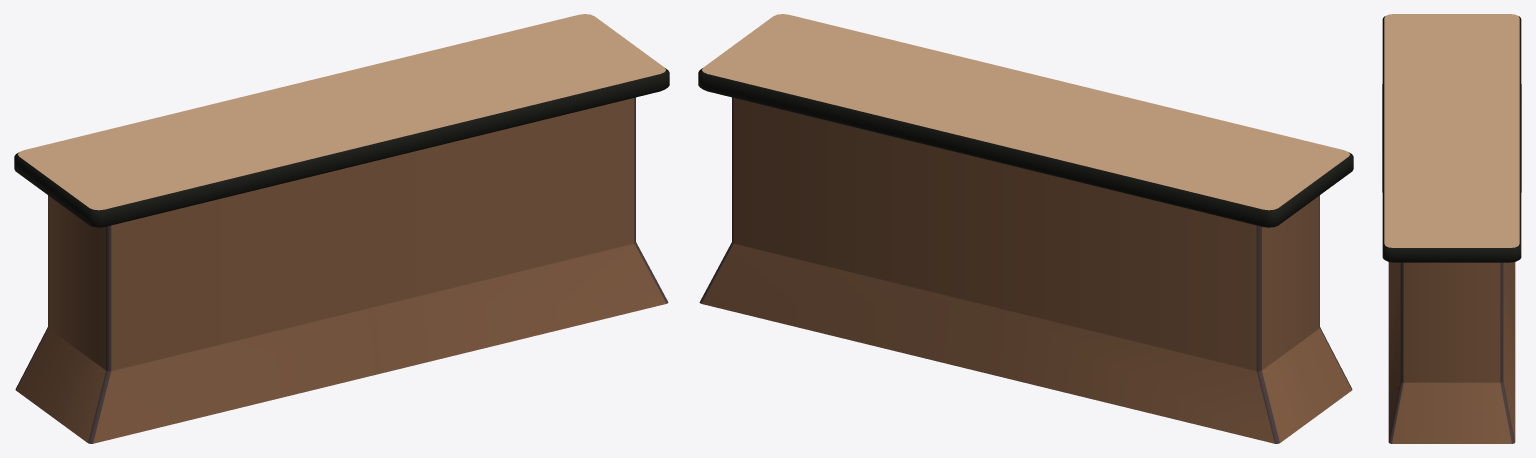
File: OT_178_small_display_table_var1.glb
3 views of the same model, side by side, from view 1: azimuth 30°, elevation 25°; view 2: azimuth 150°, elevation 25°; view 3: azimuth 270°, elevation 25° (orthographic). The views are drawn at different scales.
Parts seen in each view (by area): view 1: display_table; view 2: display_table; view 3: display_table.
Boxes of the visible parts, x1=… form: display_table: x1=14, y1=14, x2=669, y2=443; display_table: x1=698, y1=14, x2=1353, y2=443; display_table: x1=1382, y1=14, x2=1521, y2=443.
Bounding box in the file's own units: 2.92 × 1.13 × 0.7279.
